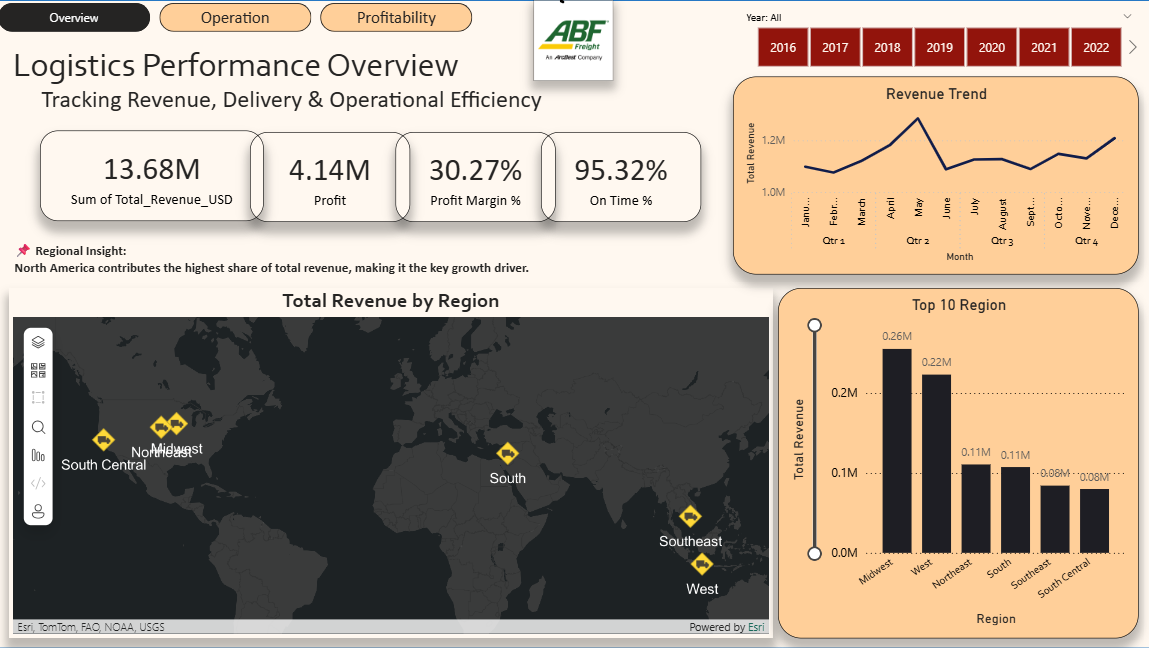

This screenshot's page, from the dashboard's own definition file:
{"tool":"powerbi","page":{"name":"Overview","canvas":[1280,720],"ordinal":0},"visuals":[{"type":"shape","box":[0,0,1280.5,720.6],"z":0},{"type":"card","fields":{"Values":["Sum(FACT_Shipments.Total_Revenue_USD)"]},"box":[46.6,145.8,248.9,100.4],"z":1000},{"type":"card","fields":{"Values":["FACT_Shipments.Profit"]},"box":[279.3,146,178,100],"z":2000},{"type":"card","fields":{"Values":["FACT_Shipments.Profit Margin %"]},"box":[441.1,146,178,100],"z":3000},{"type":"card","fields":{"Values":["FACT_Shipments.On Time %"]},"box":[603,146,178,100],"z":4000},{"type":"lineChart","title":"Revenue Trend","fields":{"Y":["FACT_Shipments.Total Revenue"],"Category":["FACT_Shipments.Pickup_Date.Variation.Date Hierarchy.Quarter","FACT_Shipments.Pickup_Date.Variation.Date Hierarchy.Month"]},"box":[817.4,84.9,450.6,220.3],"z":5000},{"type":"esriVisual","fields":{"Location":["DIM_ServiceCenters.Region"],"Color":["FACT_Shipments.Total Revenue"]},"box":[12.3,320.1,849.8,389.3],"z":6000},{"type":"columnChart","title":"Top 10 Region","fields":{"Category":["DIM_ServiceCenters.Region"],"Y":["FACT_Shipments.Total Revenue"]},"box":[867,320.1,400.9,389.3],"z":7000},{"type":"textbox","box":[11.6,43.7,628.8,90.2],"z":8000},{"type":"slicer","fields":{"Values":["DIM_Equipment.Year"]},"box":[817.7,6.3,454.1,74.2],"z":9000},{"type":"image","box":[595.3,0,88.8,90.2],"z":10000},{"type":"pageNavigator","box":[0,2.9,529.4,32.4],"z":11000},{"type":"textbox","box":[13.4,261.2,583.6,65.7],"z":12000}]}

Visuals, with their boxes in screenshot pixels (x1, y1, x2, y2), scaled from the page's 1280x720 canvas onto the 1149x648 screenshot:
shape: 0,0,1148,647
card - Sum(FACT_Shipments.Total_Revenue_USD): 42,131,265,222
card - FACT_Shipments.Profit: 251,131,410,221
card - FACT_Shipments.Profit Margin %: 396,131,556,221
card - FACT_Shipments.On Time %: 541,131,701,221
"Revenue Trend" lineChart: 734,76,1138,275
esriVisual - DIM_ServiceCenters.Region x FACT_Shipments.Total Revenue: 11,288,774,638
"Top 10 Region" columnChart: 778,288,1138,638
textbox: 10,39,575,121
slicer - DIM_Equipment.Year: 734,6,1142,72
image: 534,0,614,81
pageNavigator: 0,3,475,32
textbox: 12,235,536,294
